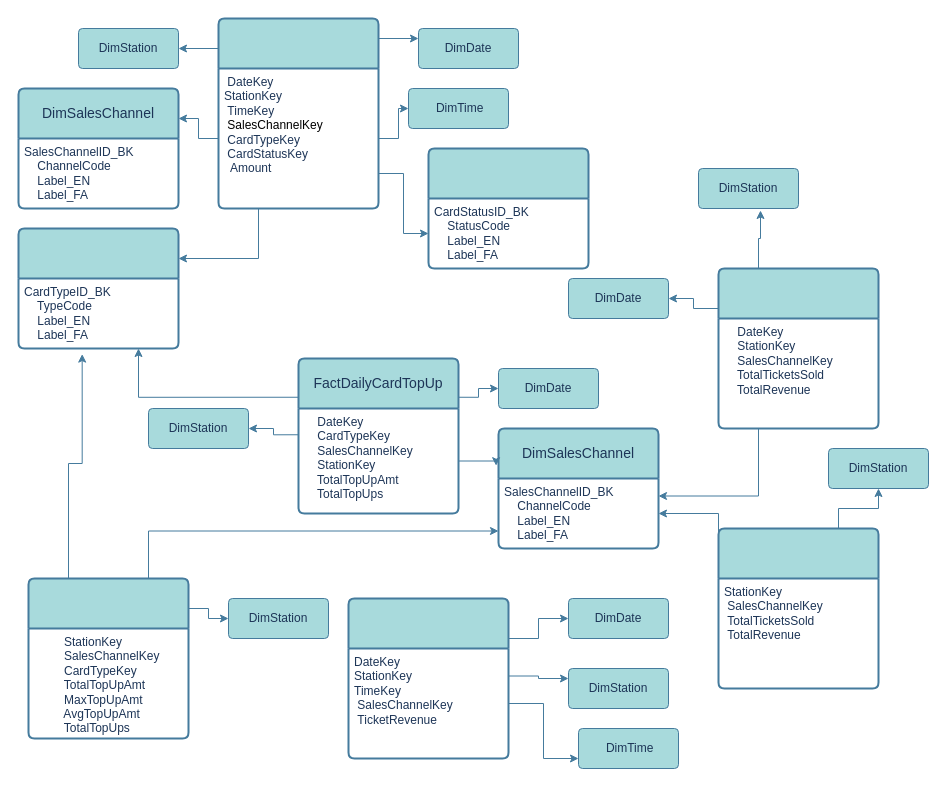
Some shapes in this 946 by 786 pixel diagram are drawn without their labels. The shapes that lost their labels are listed below. From the top down, each one's box as (x1, y1, x2, y2) in pixels, then its label:
(217, 17, 379, 209): FactTrnsCardTopUp
(427, 147, 589, 269): DimCardStatus
(17, 227, 179, 349): DimCardType
(717, 267, 879, 429): FactDailyTicketSale
(717, 527, 879, 689): FactAccTicketSale
(27, 577, 189, 739): FactAccCardTopUp
(347, 597, 509, 759): FactTrnsTicketSale
